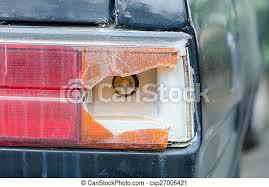Signlight-Damage: (70, 20, 201, 159)
Taillight-Damage: (1, 11, 209, 158)
